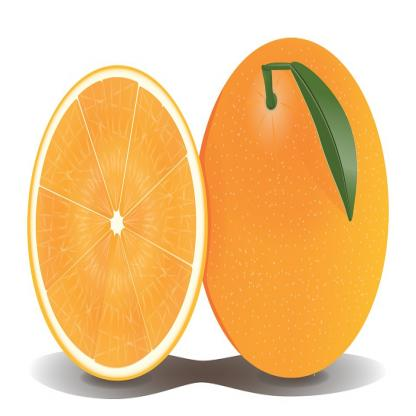orange: (188, 27, 390, 378)
